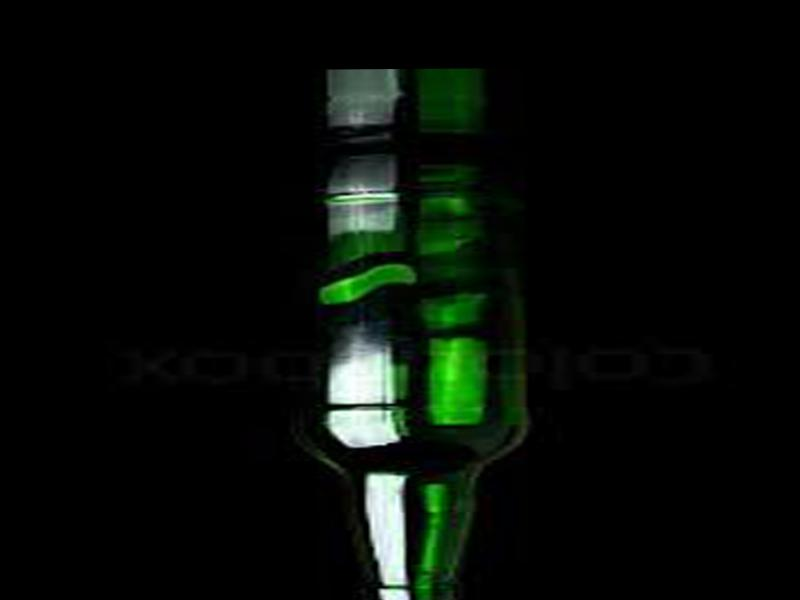Beer: (323, 189, 531, 600)
